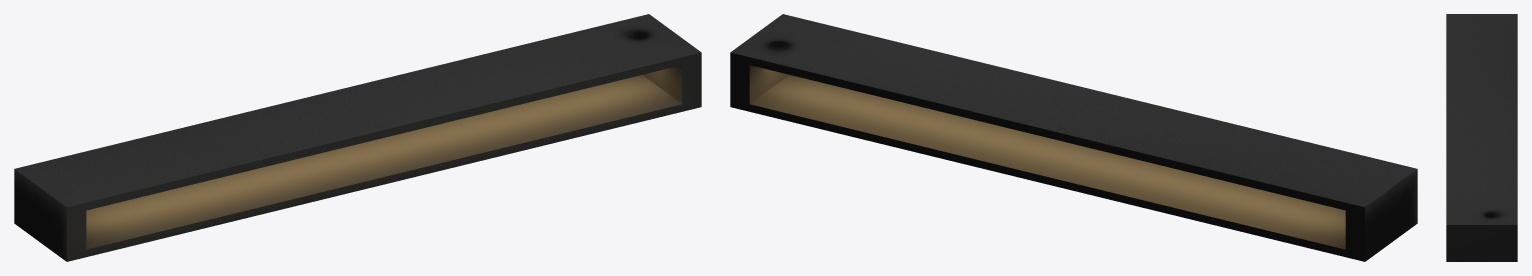
The model's file is tvtable.glb.
3 views of the same model, side by side, from view 1: azimuth 30°, elevation 25°; view 2: azimuth 150°, elevation 25°; view 3: azimuth 270°, elevation 25° (orthographic). The views are drawn at different scales.
Visible parts, largest first — view 1: Plane.011; view 2: Plane.011; view 3: Plane.011.
Boxes of the visible parts, box(x1,y1,x2,y2) form: Plane.011: box(14, 14, 701, 261); Plane.011: box(730, 14, 1417, 261); Plane.011: box(1446, 14, 1517, 261).
Size of the model in its own units: 5.94 by 0.488 by 0.8528.
1 material, 1 textured.
